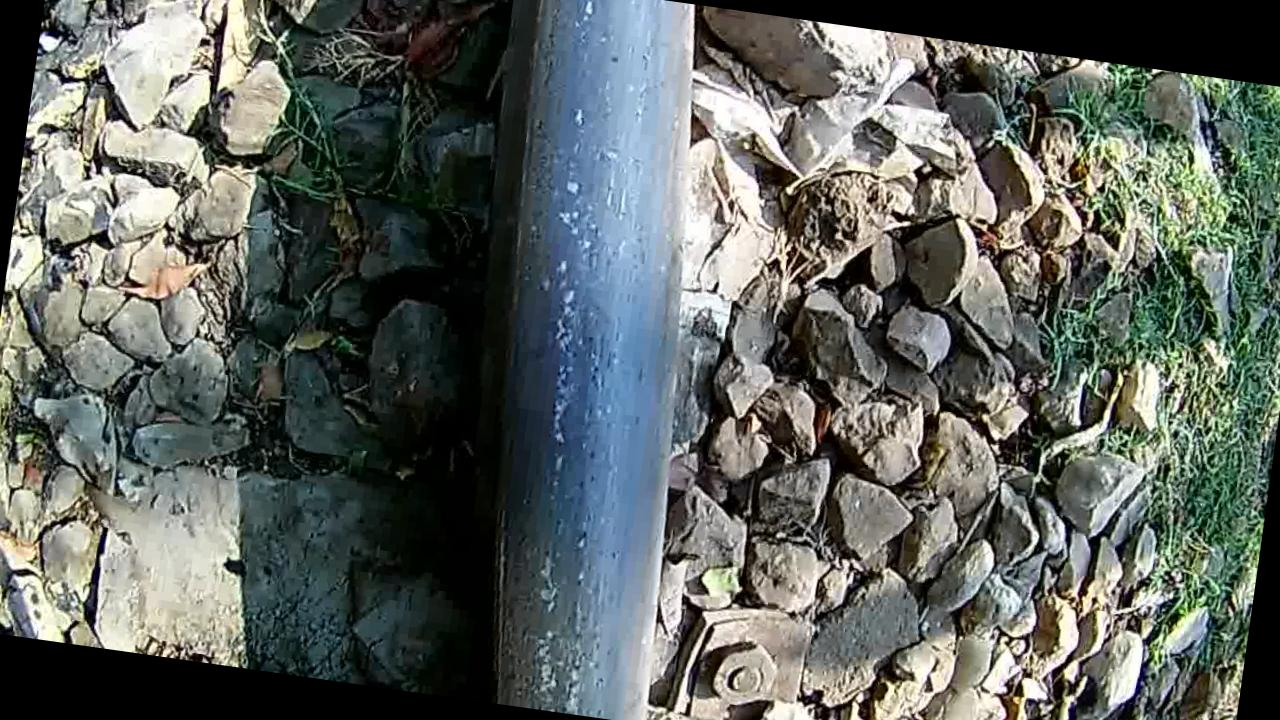clip_missing: (429, 0, 747, 720)
